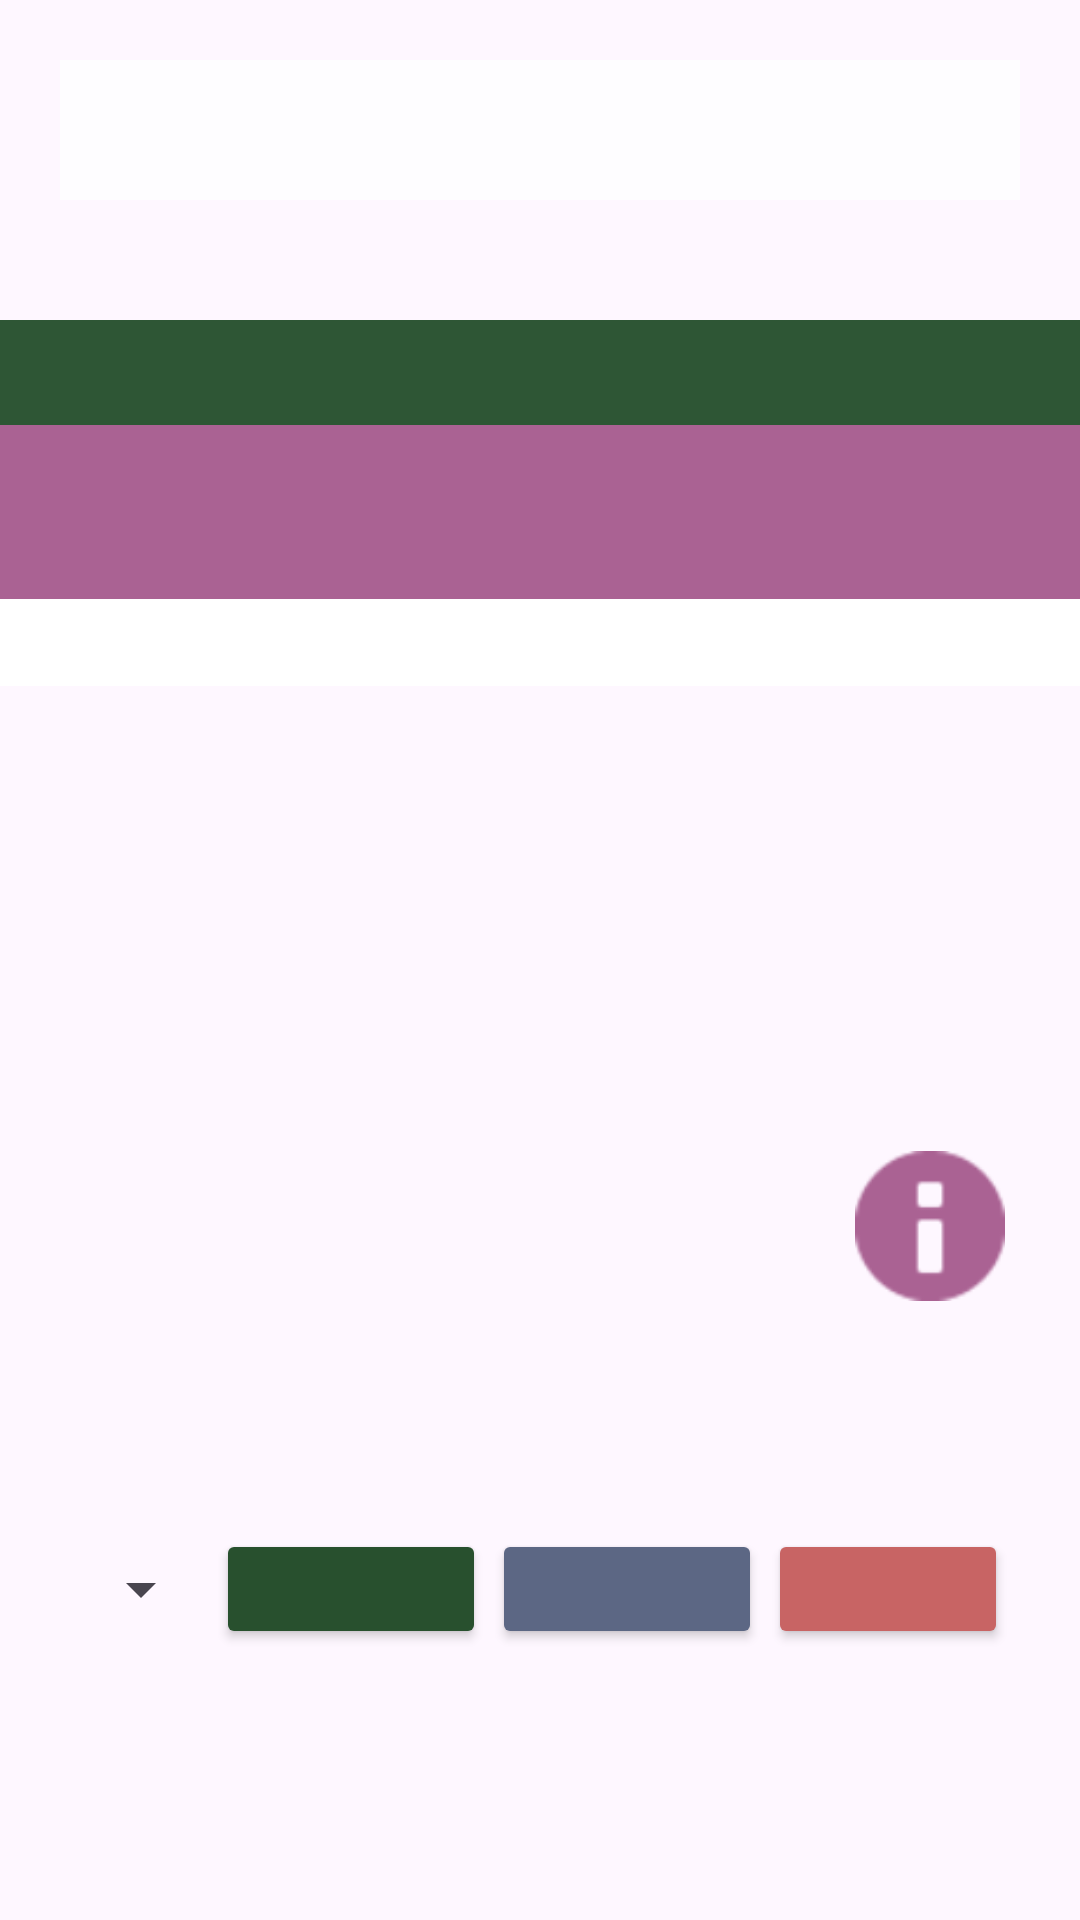

Where icons sit on this 1080px×1920px app screen, as region(x1, y1, x2, y2):
info: region(855, 1151, 1005, 1301)
